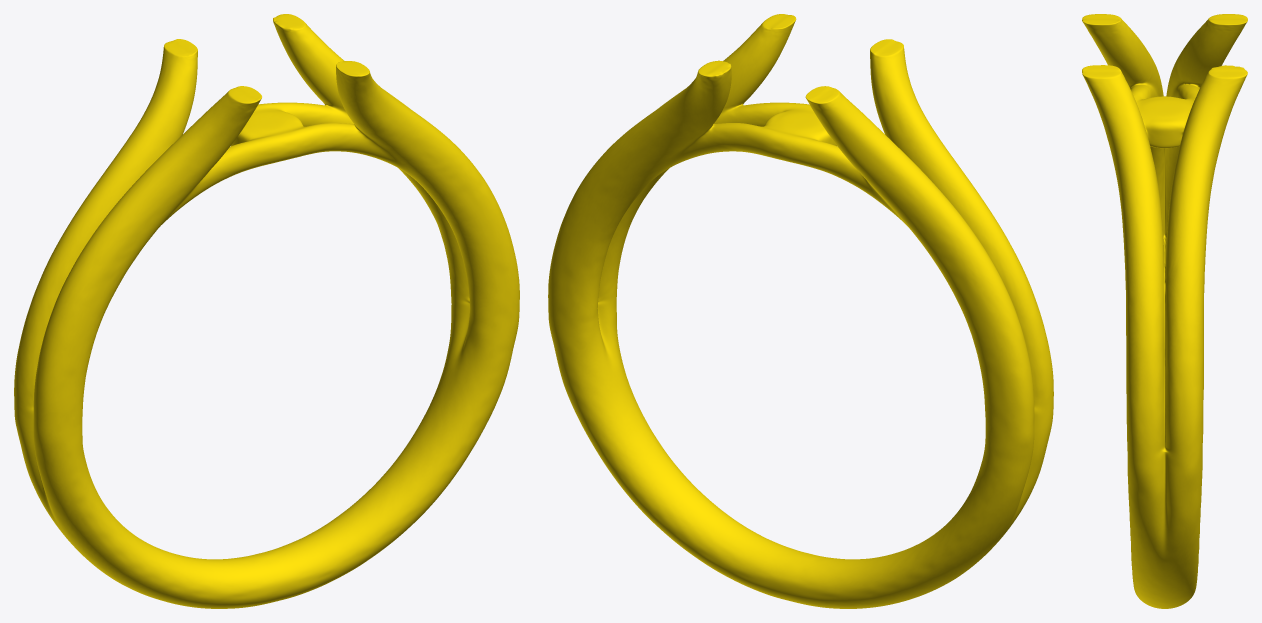
Rendered from Shank_Two row split_Plain Gold_A_Single Halo_Band.glb.
The picture shows the model from 3 angles, left to right: view 1: azimuth 30°, elevation 25°; view 2: azimuth 150°, elevation 25°; view 3: azimuth 270°, elevation 25°; orthographic projection.
Size of the model in its own units: 0.0212 by 0.0228 by 0.00638.
